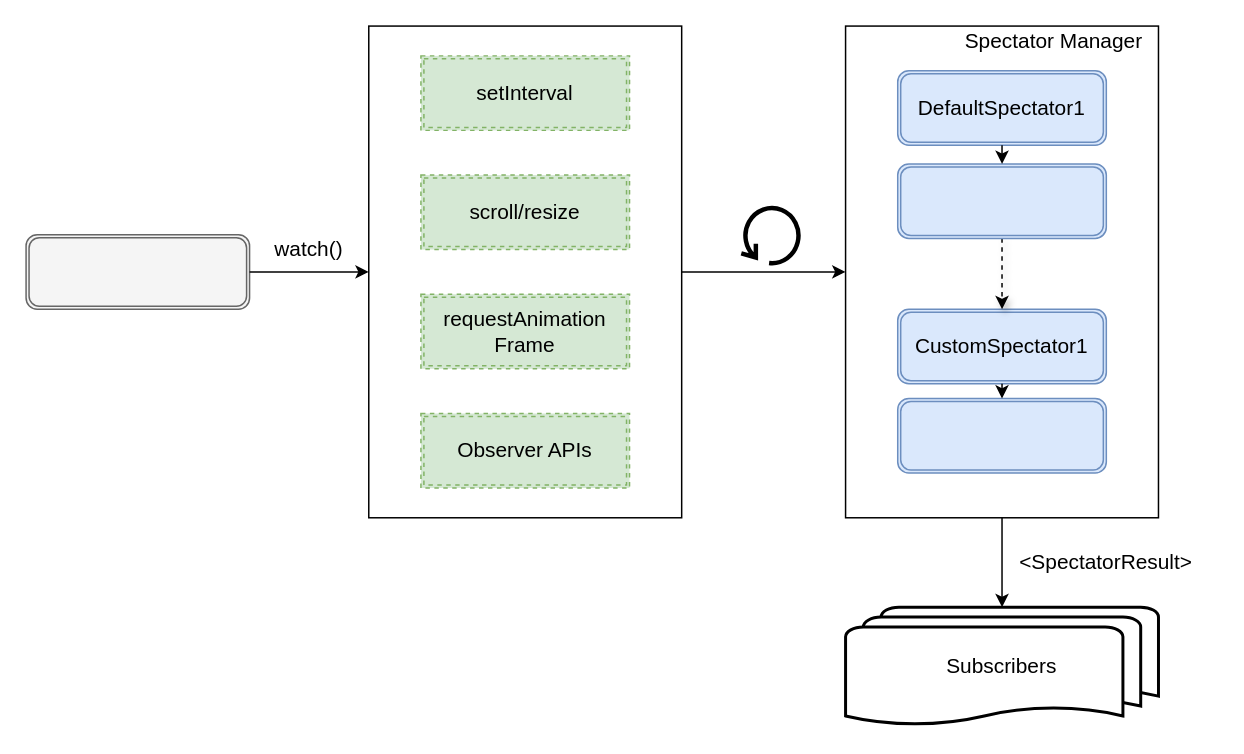
Image size: 1244x754. Some labels were removed from this diagram. Each missing label, with the centre of its shape:
"CustomSpectatorN" goes at (1001,435).
"DefaultSpectatorN" goes at (1001,200).
"PerceptorInstance" goes at (137,271).
